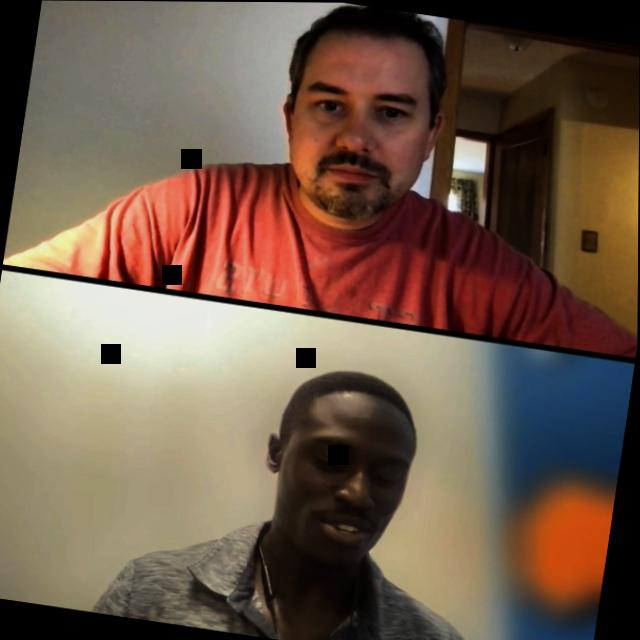NO-Mask: (267, 7, 453, 233), (255, 374, 424, 579)
